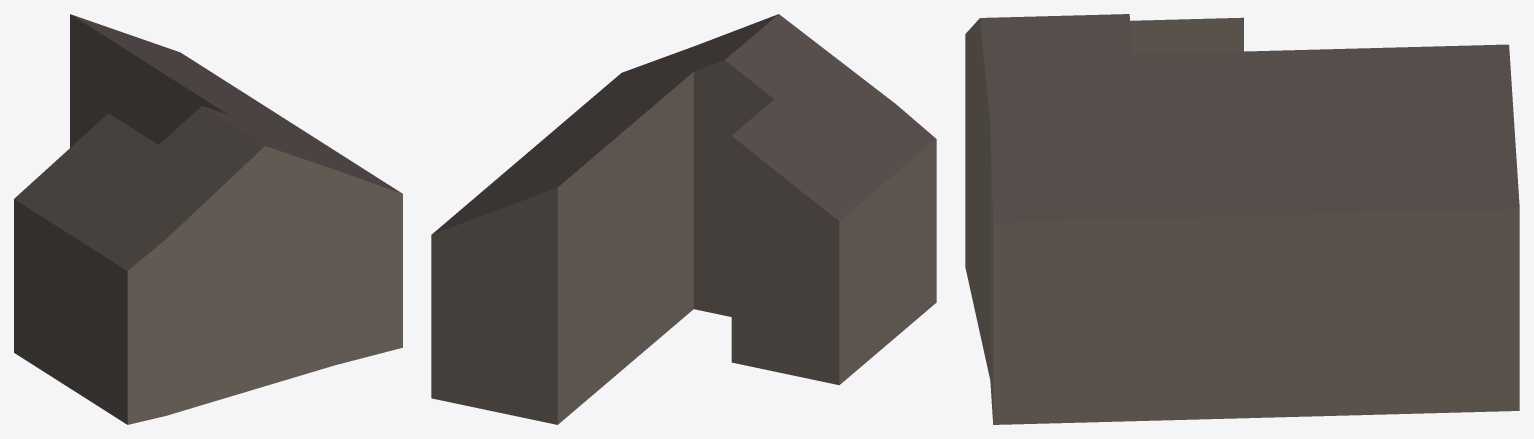
3 views of the same model, side by side, from view 1: azimuth 30°, elevation 25°; view 2: azimuth 150°, elevation 25°; view 3: azimuth 270°, elevation 25° (orthographic). The views are drawn at different scales.
Visible parts, largest first — view 1: HP-w1376988825; view 2: HP-w1376988825; view 3: HP-w1376988825.
Part boxes in pixels (box(x1,y1,x2,y2)): HP-w1376988825: box(14, 14, 402, 424); HP-w1376988825: box(431, 14, 936, 424); HP-w1376988825: box(965, 14, 1519, 424).
Bounding box in the file's own units: 12.12 × 9.37 × 14.93.
